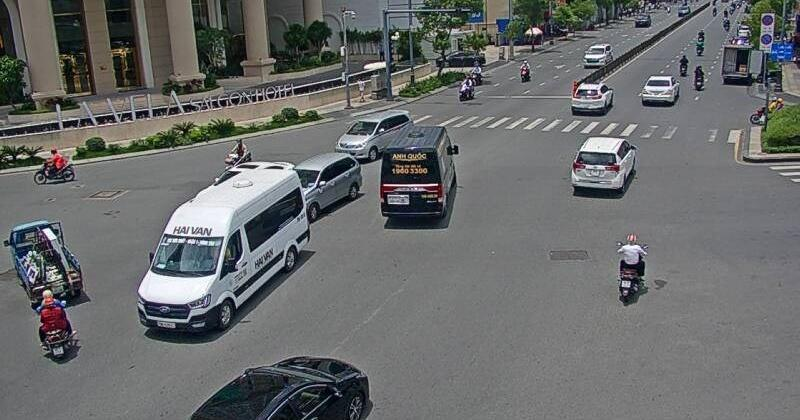xe hoi: (278, 150, 361, 222), (569, 134, 636, 197), (335, 109, 412, 162), (570, 80, 613, 115), (640, 74, 678, 108)
xe may: (7, 216, 83, 304), (34, 287, 77, 361), (615, 233, 650, 307)
xe van: (136, 164, 320, 339), (379, 124, 458, 222)
